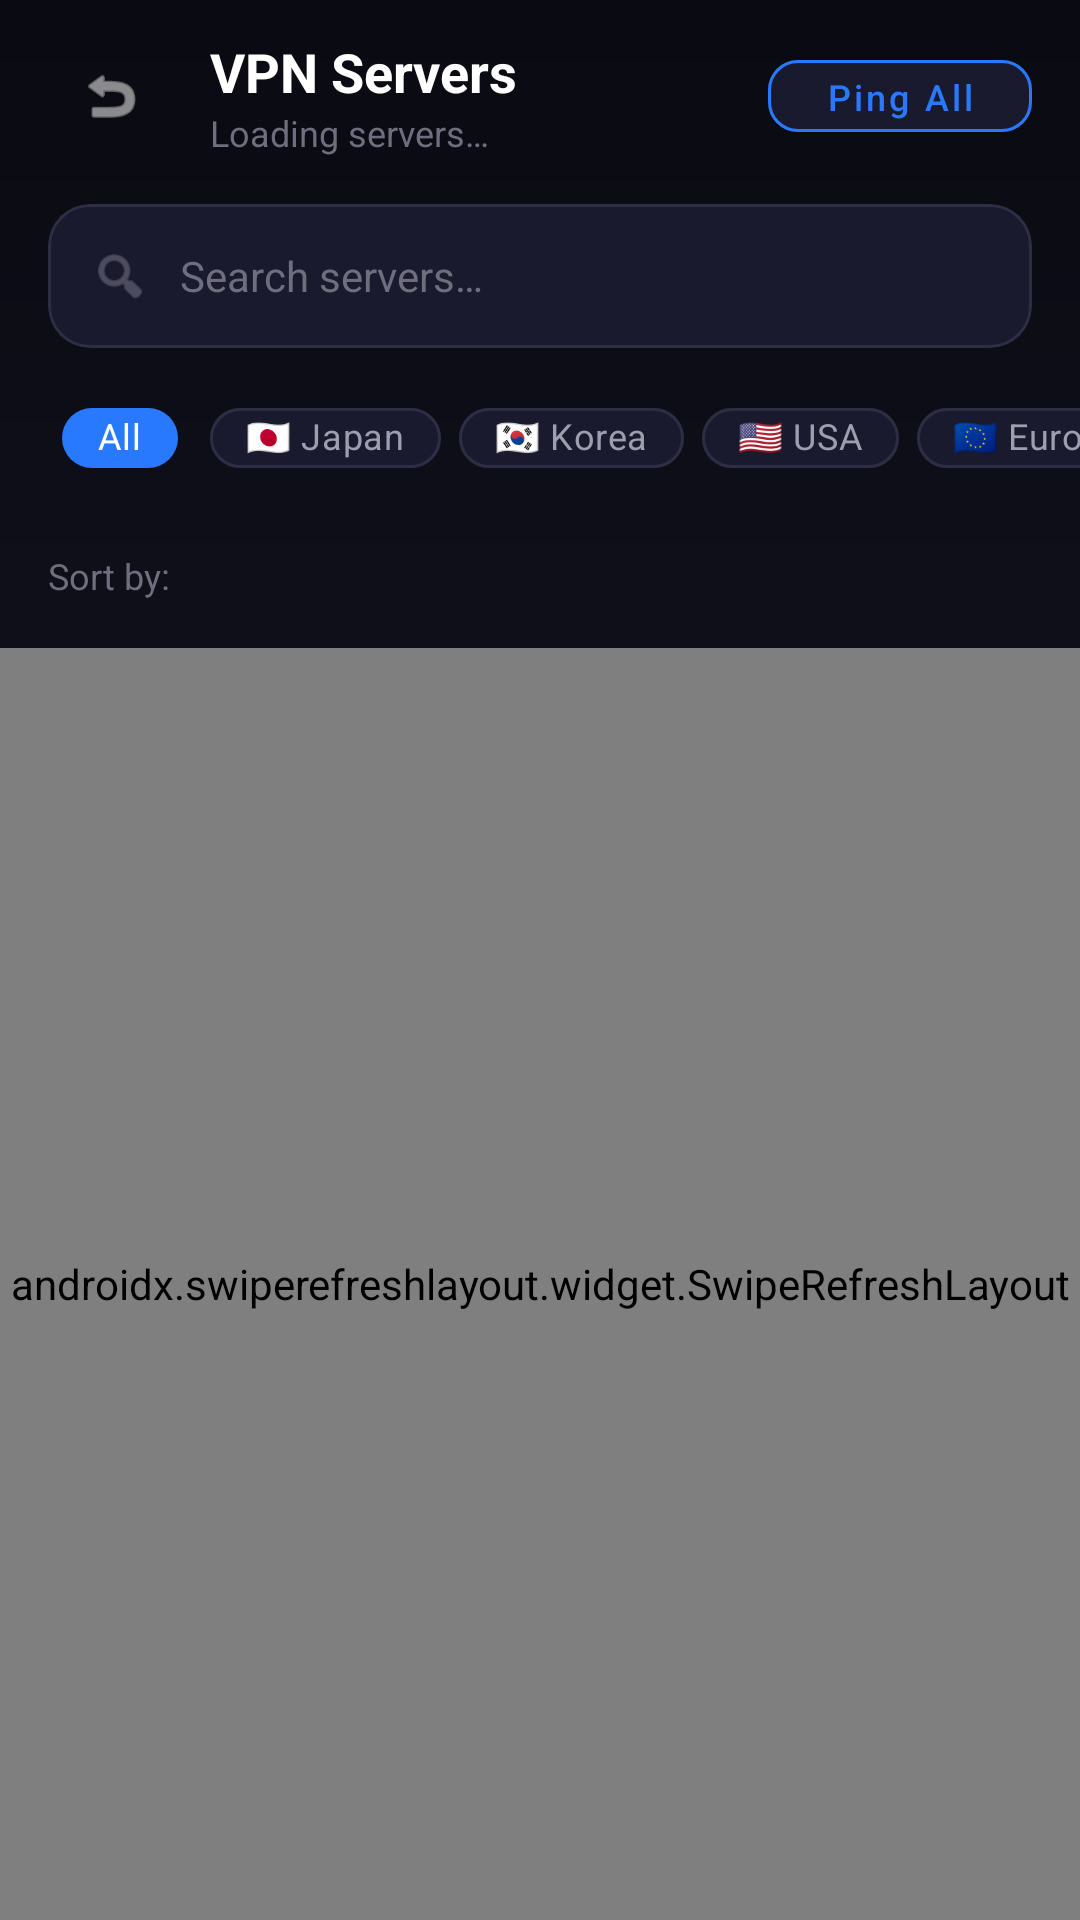

Named icons in this screenshot (1080w x 1920h) and their centers, point (x, y):
revert: point (112, 96)
